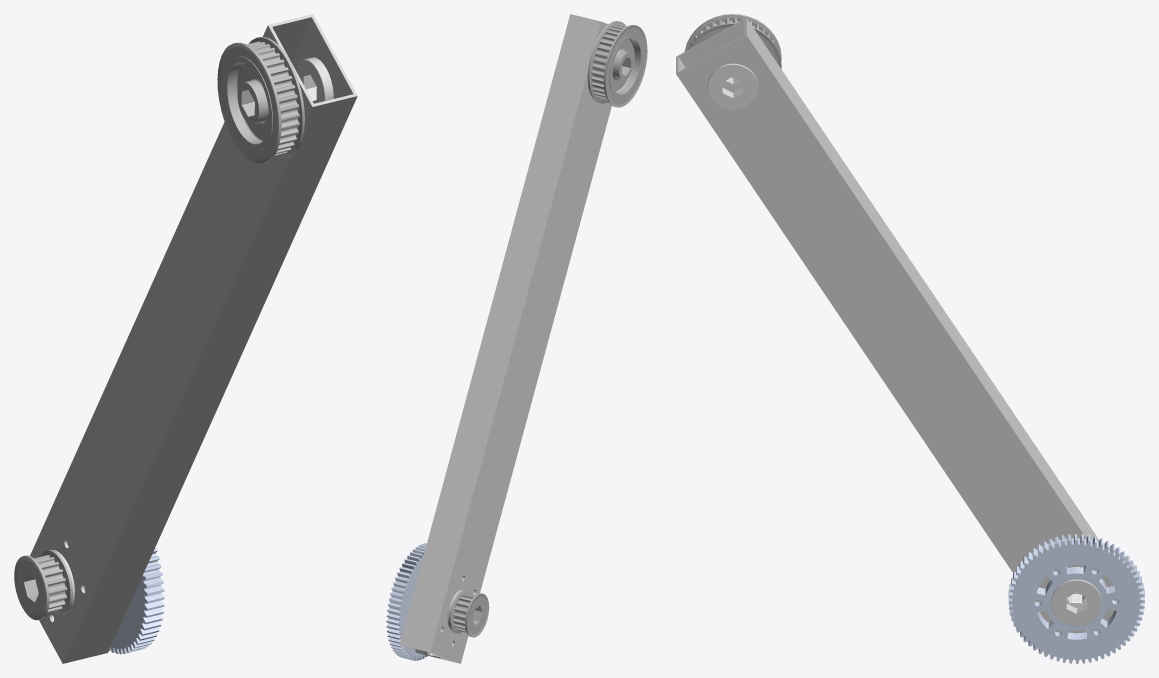
3 renders of one model, left to right at view 1: azimuth 30°, elevation 25°; view 2: azimuth 150°, elevation 25°; view 3: azimuth 270°, elevation 25°, orthographic. The views are drawn at different scales.
Visible parts, largest first — view 1: Arm v12:1, 36T 1_2in Hex 9mm v1:1, 18T 1_2in Hex 9mm v4:1, 64T Aluminum Spur Gear (20 DP, 1.125 Bearing Bore, VersaKeys, 1/2" Flanged Hex v1:5; view 2: Arm v12:1, 36T 1_2in Hex 9mm v1:1, 64T Aluminum Spur Gear (20 DP, 1.125 Bearing Bore, VersaKeys, 18T 1_2in Hex 9mm v4:1; view 3: Arm v12:1, 64T Aluminum Spur Gear (20 DP, 1.125 Bearing Bore, VersaKeys, 1/2" Flanged Hex v1:2, 1/2" Flanged Hex v1:5, 36T 1_2in Hex 9mm v1:1.
Part boxes in pixels (x1,y1,x2,y2): Arm v12:1: (30,14,357,663); 36T 1_2in Hex 9mm v1:1: (217,37,304,163); 18T 1_2in Hex 9mm v4:1: (14,549,72,620); 64T Aluminum Spur Gear (20 DP, 1.125 Bearing Bore, VersaKeys: (109,548,164,654); 1/2" Flanged Hex v1:5: (296,57,333,103); Arm v12:1: (399,14,611,663); 36T 1_2in Hex 9mm v1:1: (587,21,647,107); 64T Aluminum Spur Gear (20 DP, 1.125 Bearing Bore, VersaKeys: (386,543,427,660); 18T 1_2in Hex 9mm v4:1: (449,589,489,637); Arm v12:1: (676,18,1118,633); 64T Aluminum Spur Gear (20 DP, 1.125 Bearing Bore, VersaKeys: (1008,534,1144,663); 1/2" Flanged Hex v1:2: (1051,579,1101,625); 1/2" Flanged Hex v1:5: (707,63,758,110); 36T 1_2in Hex 9mm v1:1: (684,14,781,78).
Bounding box in the file's own units: 0.0525 × 0.4234 × 0.2882.
